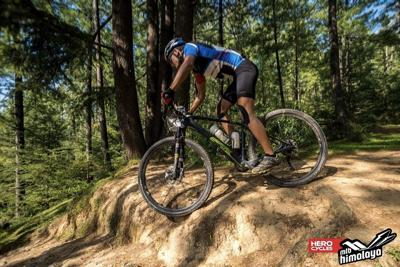With Helmet: (162, 36, 186, 67)
